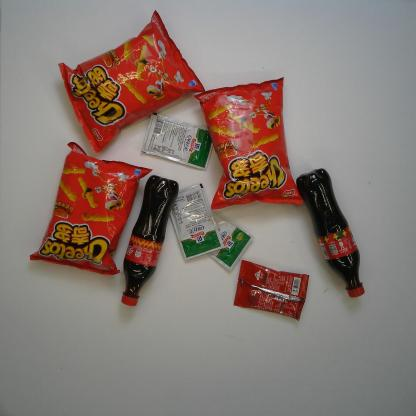Drink: (295, 166, 366, 298), (120, 175, 180, 308)
Instant Drink: (233, 259, 310, 322)
Puffed Food: (56, 10, 206, 154), (29, 140, 154, 276), (194, 75, 304, 212)
Seasoner: (169, 182, 225, 262), (141, 112, 214, 172), (206, 207, 255, 272)
